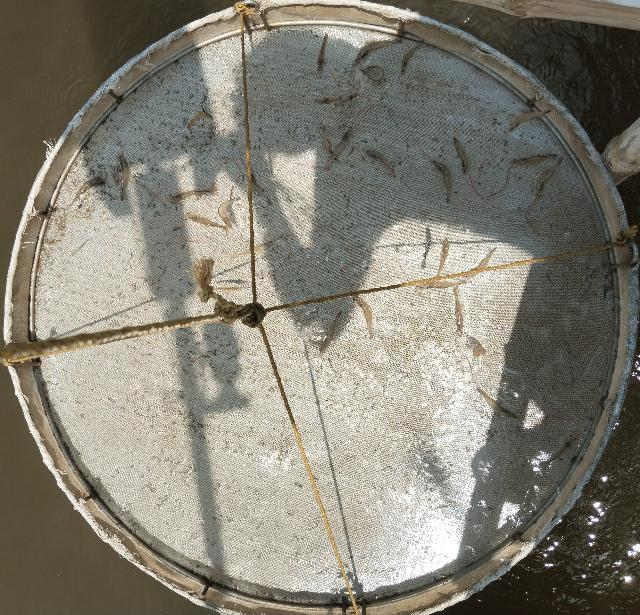shrimp: (323, 123, 356, 172), (352, 39, 402, 68), (475, 388, 520, 420), (539, 434, 578, 470), (534, 156, 564, 199), (68, 177, 106, 209), (164, 183, 219, 204), (464, 247, 498, 279), (319, 310, 342, 357), (429, 158, 452, 204), (508, 110, 552, 134), (181, 212, 230, 230), (354, 295, 374, 339), (232, 240, 278, 259), (248, 170, 272, 206), (400, 41, 424, 76), (362, 149, 395, 174), (322, 124, 339, 164), (414, 279, 469, 291), (118, 152, 131, 202), (217, 199, 237, 231), (509, 154, 558, 166), (454, 137, 469, 175), (453, 287, 464, 337), (436, 238, 449, 277), (317, 34, 329, 75), (335, 92, 361, 108), (360, 66, 385, 81), (315, 96, 343, 105), (472, 346, 487, 357), (213, 287, 247, 291)
